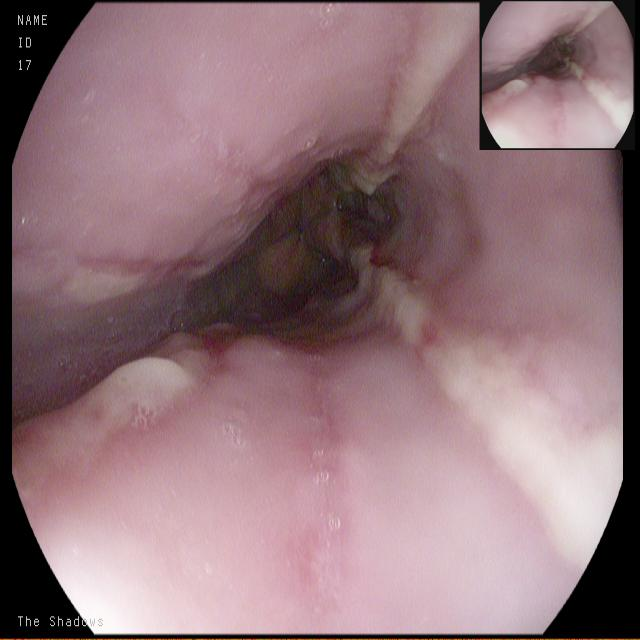esophagitis: (13, 14, 633, 565)
